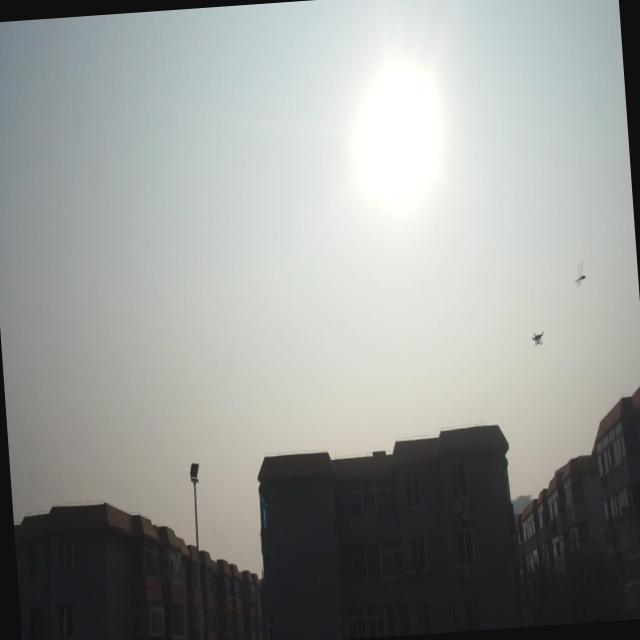drone: (530, 328, 546, 350)
